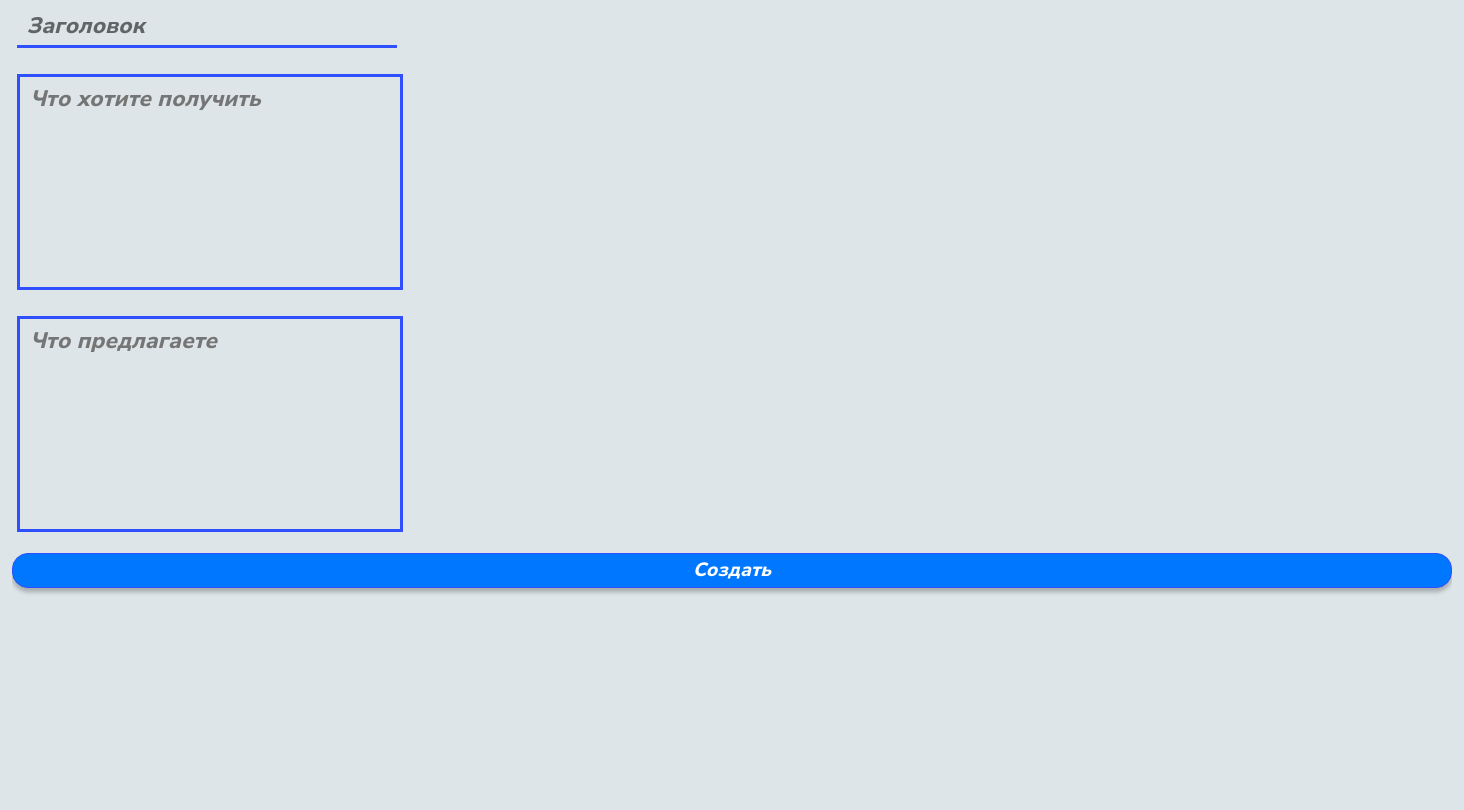
it: CreatePostForm › should show a generic error message when the mutation rejects with a non-HttpError
Type "A valid title" into the field with placeholder "Заголовок" at (207, 26), box [17, 5, 397, 48]
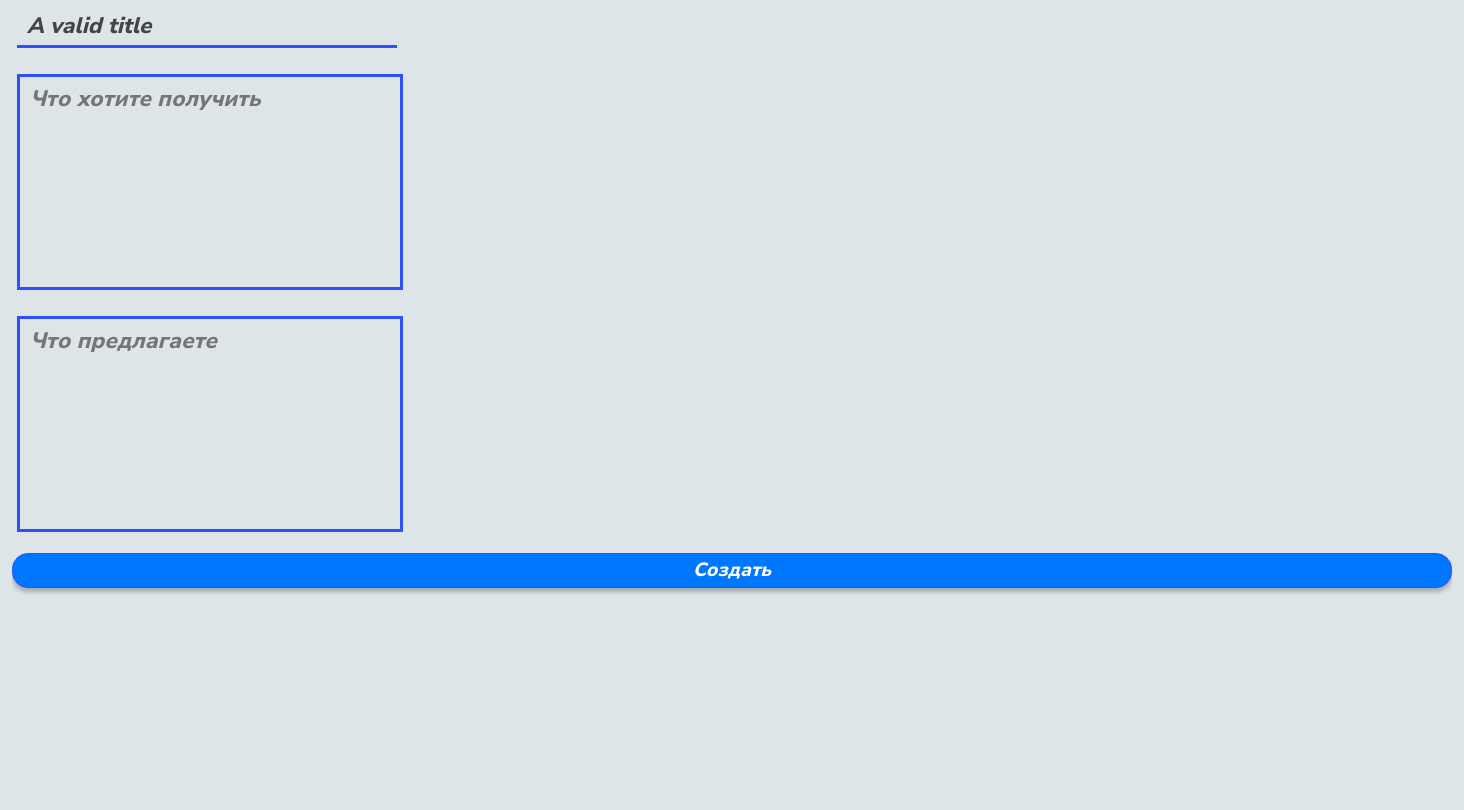
Type "wants something nice" into the text box with placeholder "Что хотите получить" at (210, 182), box [17, 74, 403, 290]
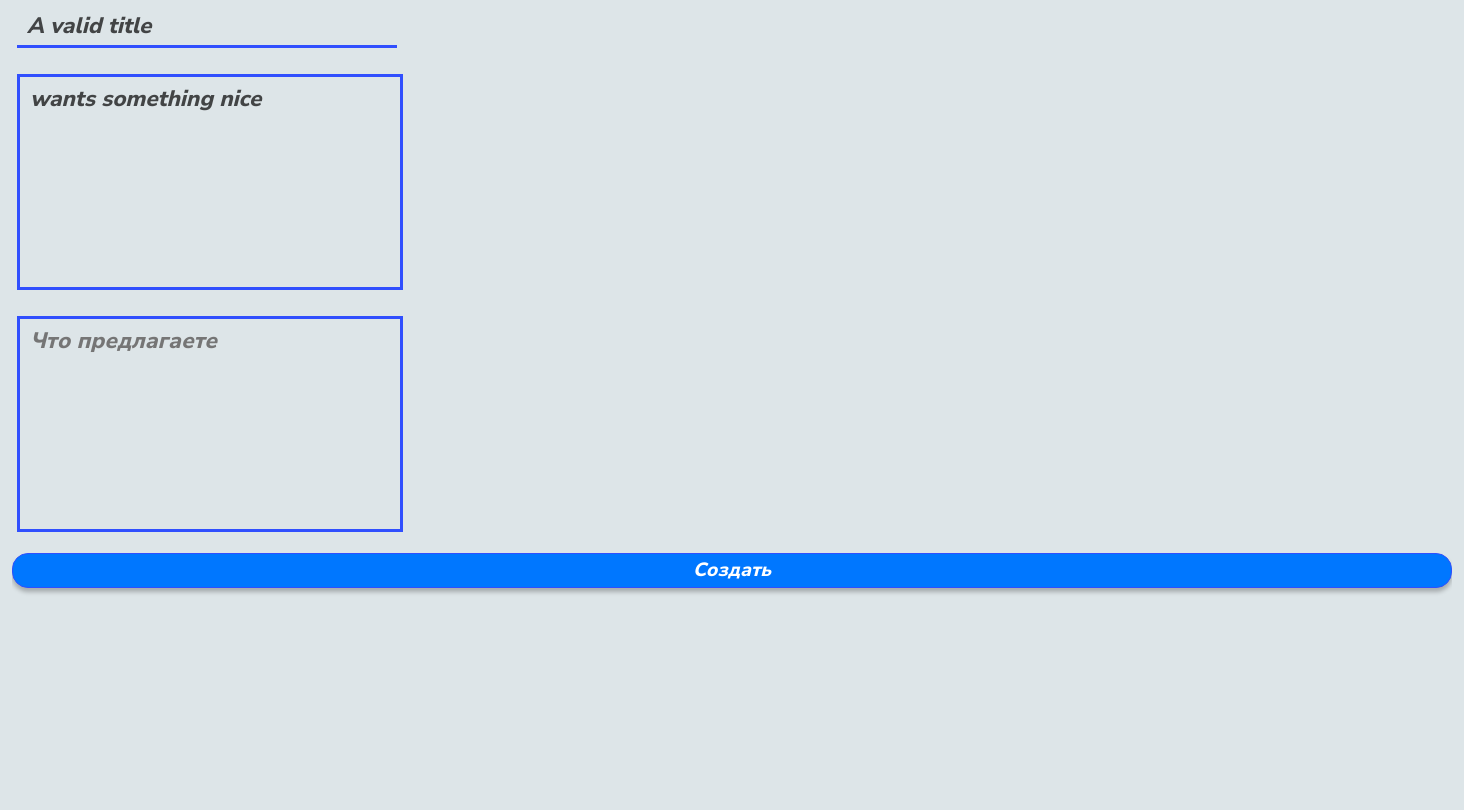
Type "offers something nice" into the text box with placeholder "Что предлагаете" at (210, 424), box [17, 316, 403, 532]
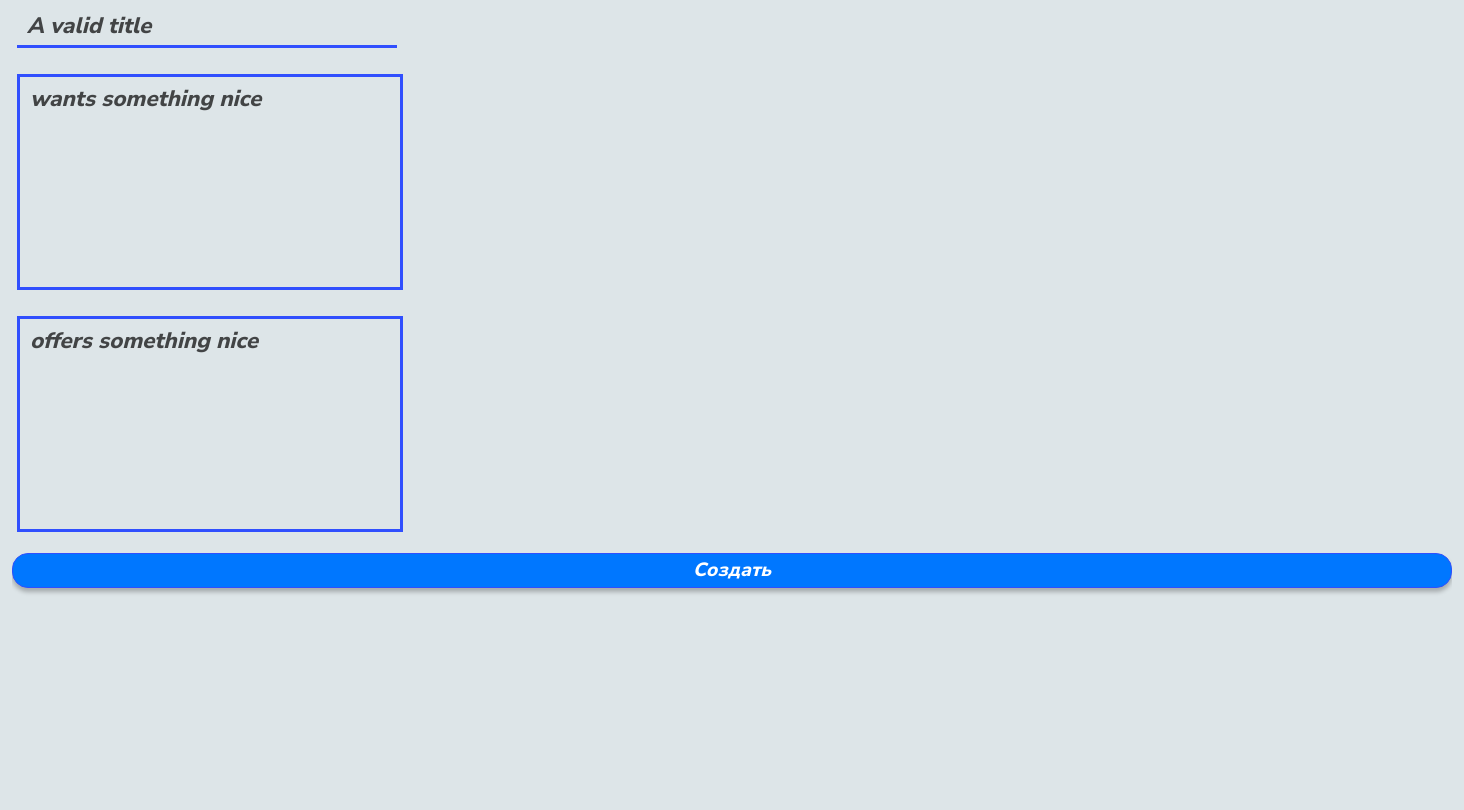
Click the button "Создать" at (732, 570), box [12, 553, 1452, 588]
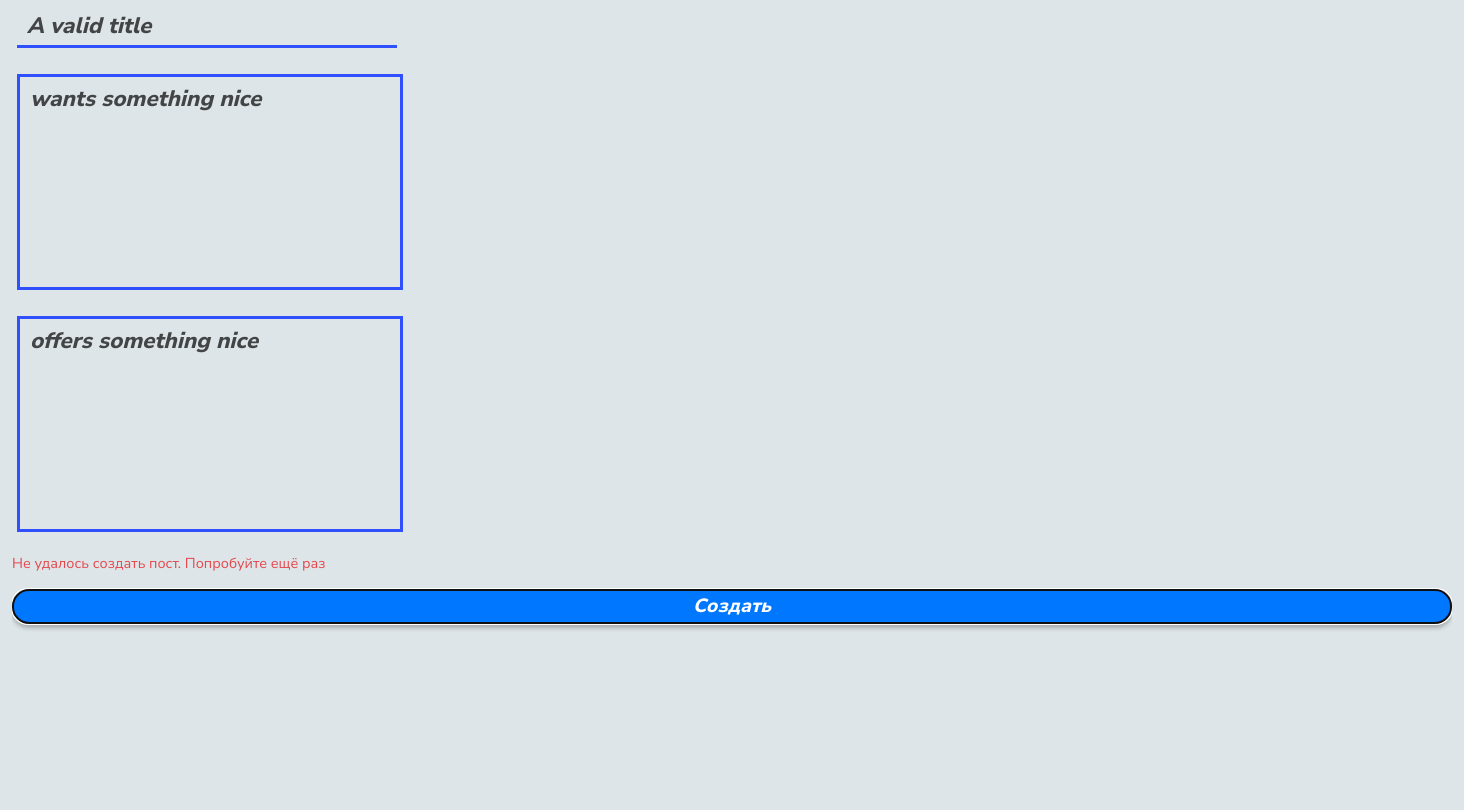
Expected: the text "Не удалось создать пост. Попробуйте ещё раз" is shown, [12, 553, 1452, 573]
